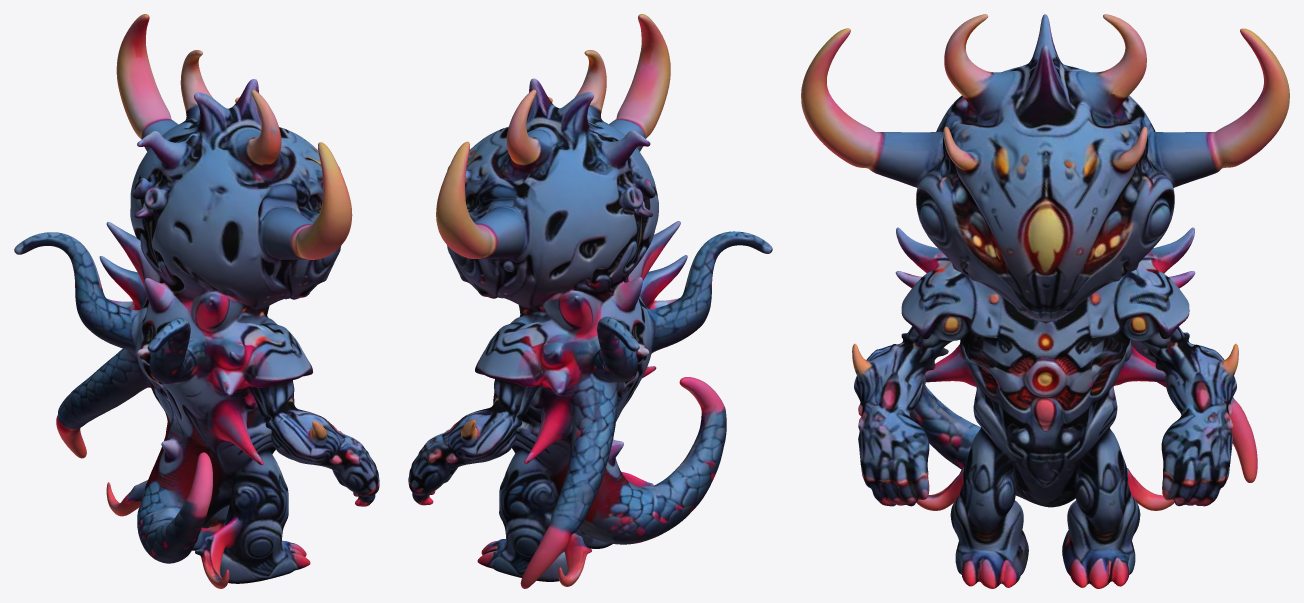
File: tripo1-transformed.glb
The picture shows the model from 3 angles, left to right: view 1: azimuth 30°, elevation 25°; view 2: azimuth 150°, elevation 25°; view 3: azimuth 270°, elevation 25°; orthographic projection. The views are drawn at different scales.
Parts seen in each view (by area): view 1: tripo_node_c7370c76-670d-447e-ad20-d9fa550c239b; view 2: tripo_node_c7370c76-670d-447e-ad20-d9fa550c239b; view 3: tripo_node_c7370c76-670d-447e-ad20-d9fa550c239b.
Part boxes in pixels (x1,y1,x2,y2): tripo_node_c7370c76-670d-447e-ad20-d9fa550c239b: (14,14,379,588); tripo_node_c7370c76-670d-447e-ad20-d9fa550c239b: (408,14,772,588); tripo_node_c7370c76-670d-447e-ad20-d9fa550c239b: (801,14,1289,588).
Size of the model in its own units: 0.5278 by 0.9484 by 0.7693.
Materials: 1 (1 with a texture image).
